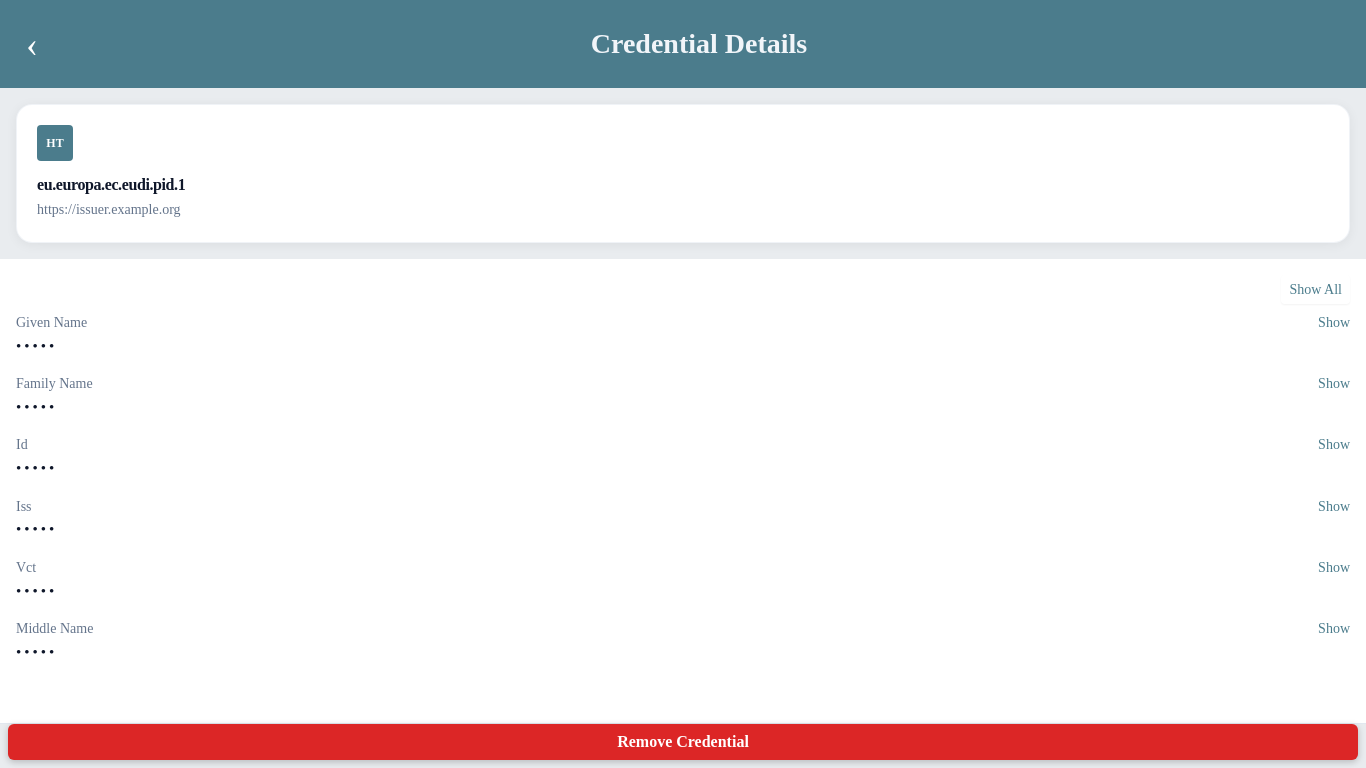
Test case: CredentialDetailPage › renders em-dash for null claim values when revealed
Click the button with aria-label "Show Middle Name" at point(1334, 628), box x1=1314 y1=618 x2=1354 y2=639
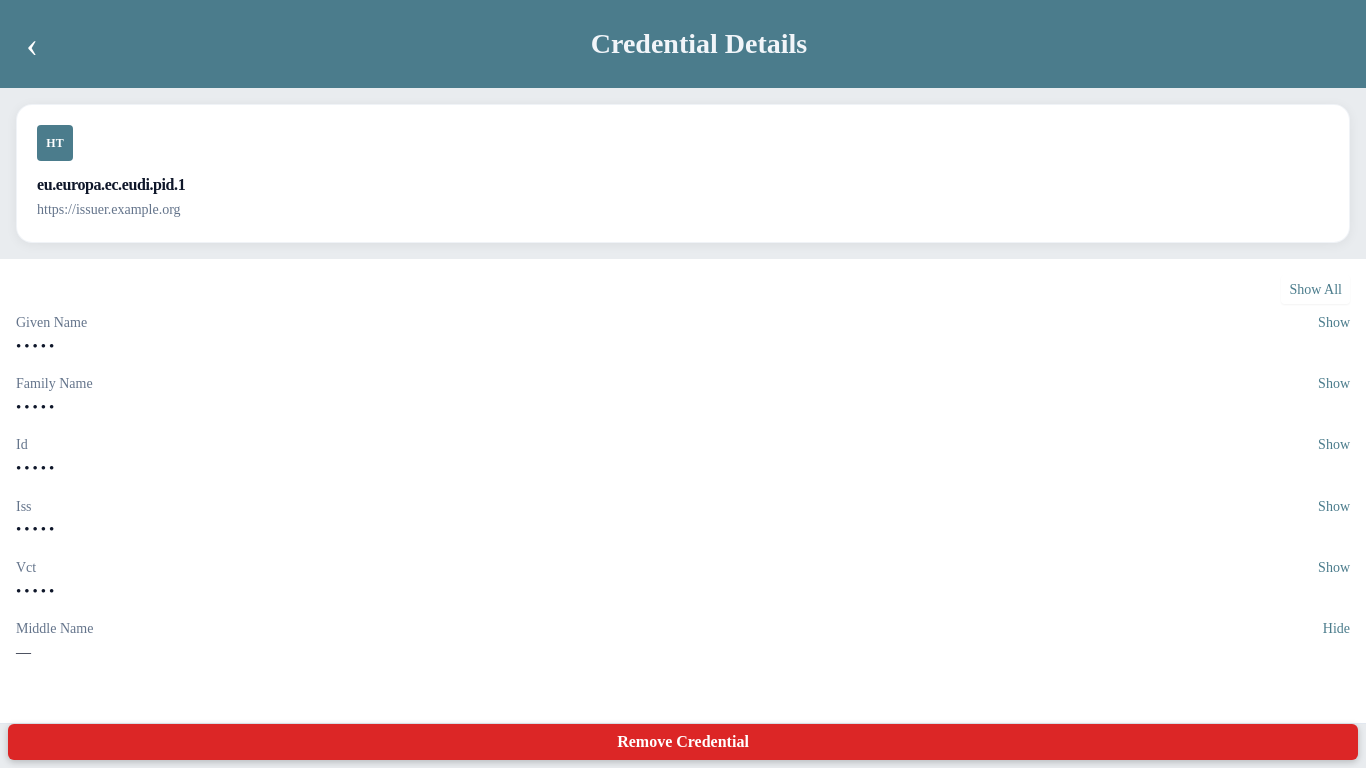
Check: the text labelled "—" is shown, box x1=16 y1=644 x2=31 y2=660
